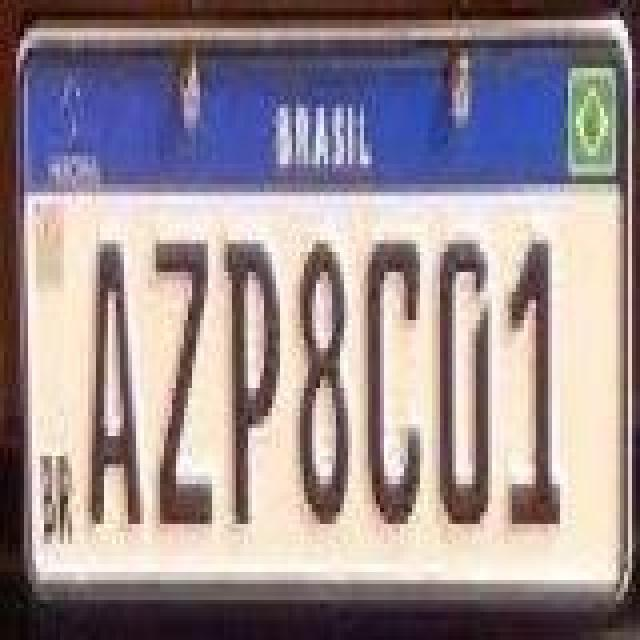1: (510, 234, 562, 534)
8: (302, 238, 354, 530)
A: (88, 234, 144, 534)
C: (368, 234, 424, 534)
D: (438, 234, 490, 534)
P: (222, 238, 282, 530)
Z: (154, 234, 214, 534)
